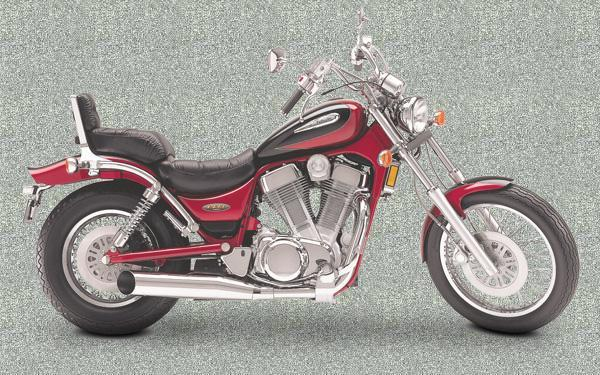motorcycle: (23, 3, 586, 341)
